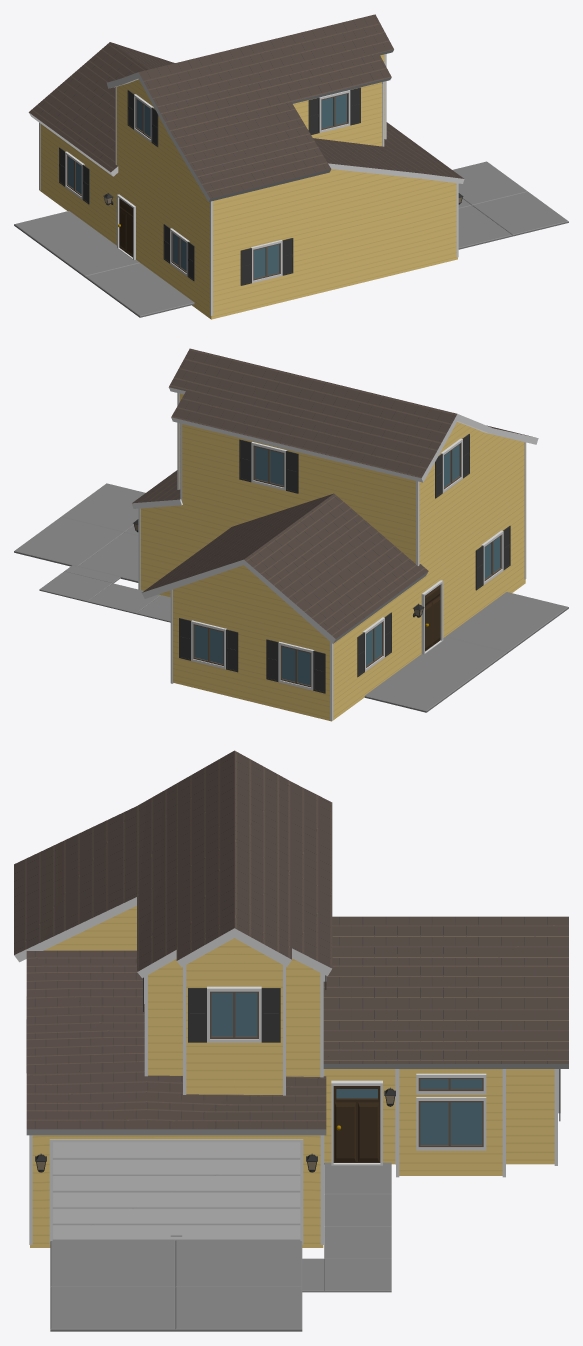
The model's file is LargeHouse_02.fbx.
3 renders of one model, top to bottom at view 1: azimuth 30°, elevation 25°; view 2: azimuth 150°, elevation 25°; view 3: azimuth 270°, elevation 25°, orthographic. The views are drawn at different scales.
Visible parts, largest first — view 1: House_03; view 2: House_03; view 3: House_03.
Part boxes in pixels (x1=…): House_03: x1=14, y1=14, x2=568, y2=319; House_03: x1=14, y1=348, x2=568, y2=721; House_03: x1=14, y1=750, x2=568, y2=1331.
Bounding box in the file's own units: 63.05 × 28.8 × 47.04.
